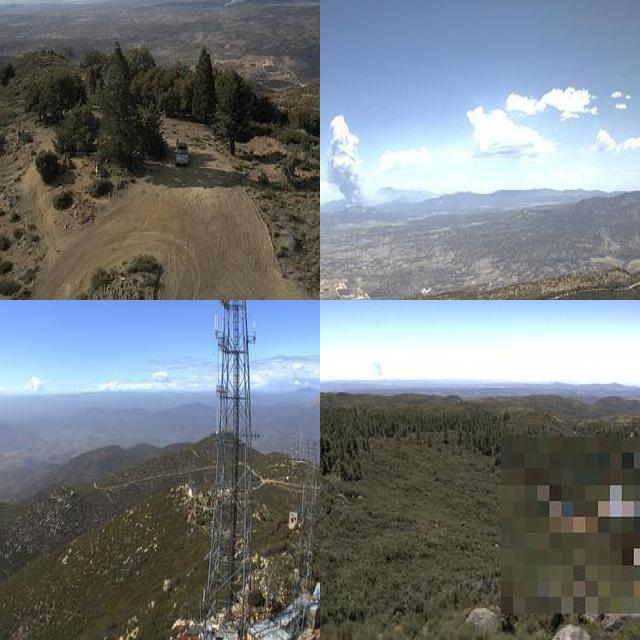smoke: (322, 107, 372, 215), (219, 0, 278, 13), (366, 357, 386, 383)
